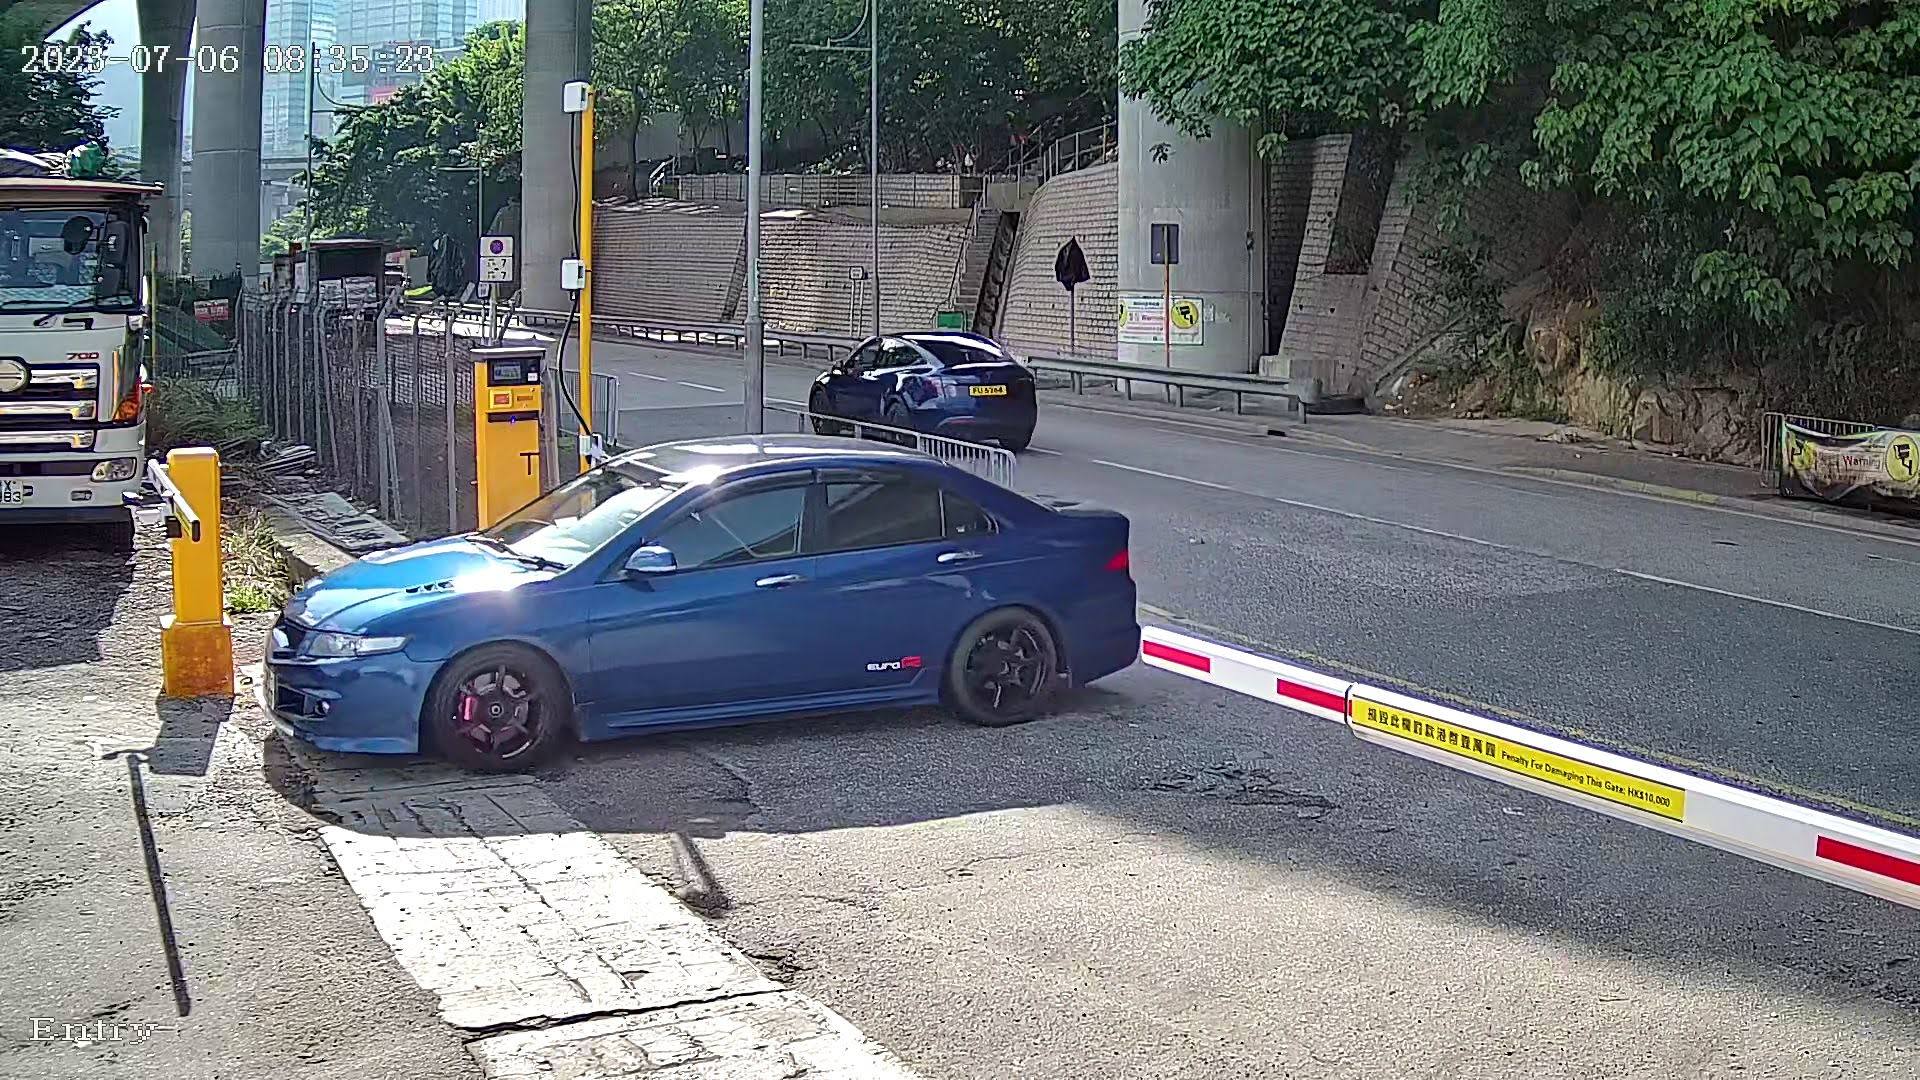privatecar: (225, 372, 1196, 829)
